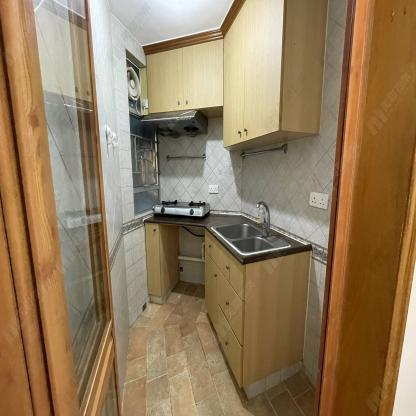Cupboard: (146, 0, 283, 148), (207, 230, 312, 386)
Exhaust Fan: (125, 59, 142, 115)
Exhaust Hood: (140, 110, 209, 136)
Faucet: (254, 198, 273, 240)
Sink: (214, 222, 288, 256)
Stove: (151, 199, 213, 215)
